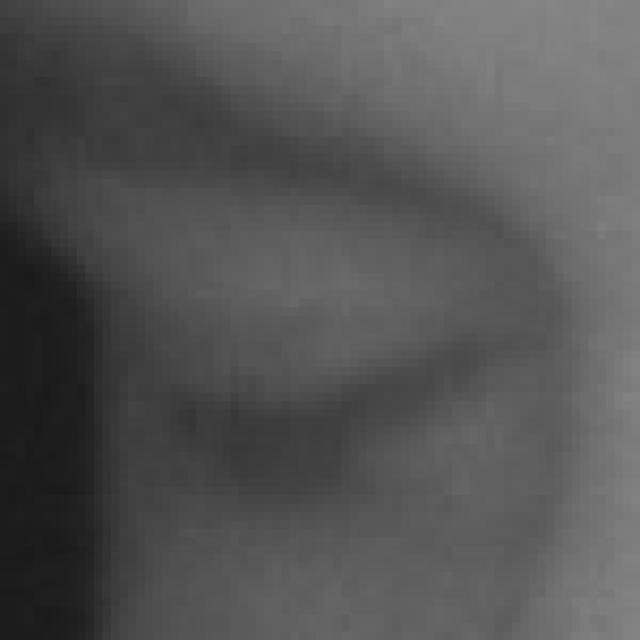Eyeclosed: (166, 246, 490, 561)
